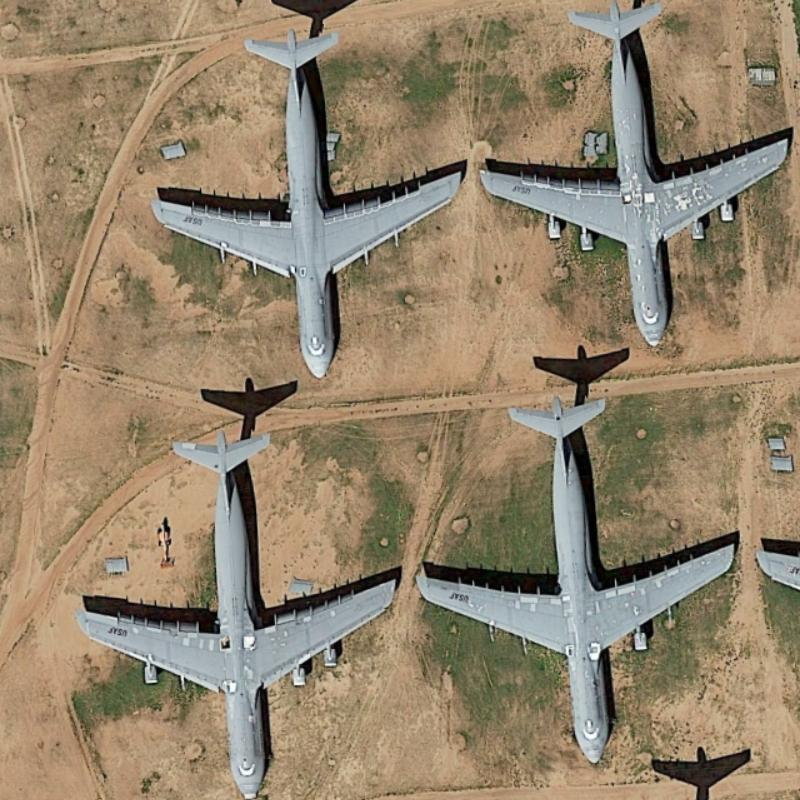A4: (65, 415, 409, 794), (423, 388, 752, 771), (151, 22, 474, 385), (472, 0, 793, 351)
